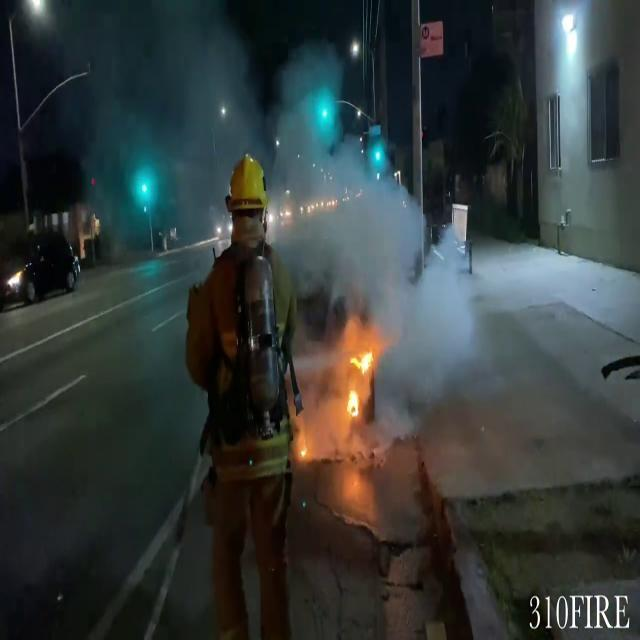Fire: (343, 329, 379, 425)
Smoke: (51, 0, 356, 254), (339, 141, 469, 402)
